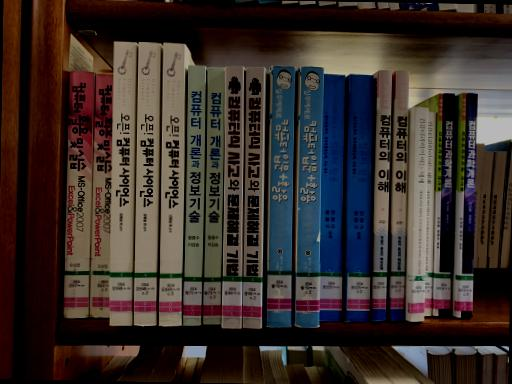book-spine: (63, 71, 94, 319), (110, 42, 136, 326), (134, 42, 159, 326), (296, 66, 323, 328), (161, 43, 185, 326), (269, 66, 295, 327), (347, 74, 373, 322), (320, 74, 345, 321), (243, 67, 266, 328), (184, 66, 207, 325), (223, 67, 245, 329), (203, 67, 225, 324), (92, 74, 113, 318), (390, 71, 410, 321), (373, 71, 392, 321), (409, 107, 429, 322), (461, 93, 477, 318), (440, 93, 454, 318), (456, 93, 467, 318), (425, 110, 437, 316), (432, 93, 443, 317)
